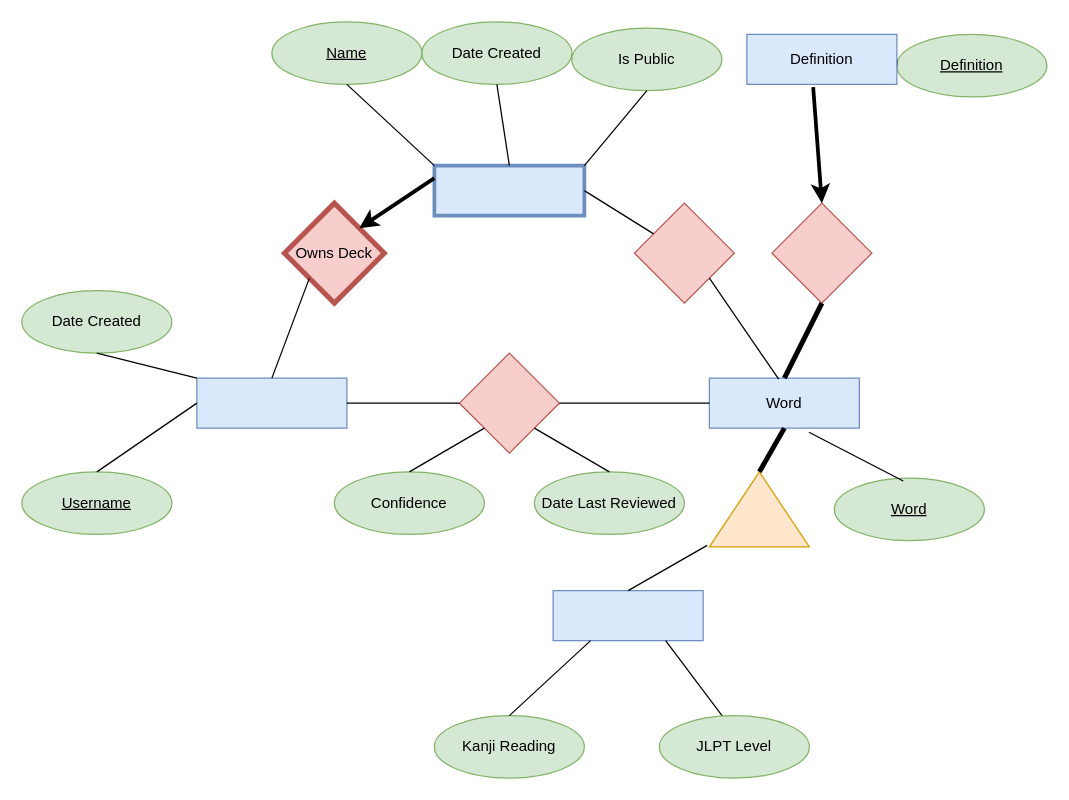
Some shapes in this 1069 by 800 pixel diagram are drawn without their labels. The centre of each missing label's shape, as x and y in pixels:
Deck: point (509, 190)
Has Definition: point (821, 252)
Has seen word: point (508, 402)
Has Word: point (683, 252)
Japanese: point (627, 615)
User: point (271, 402)
